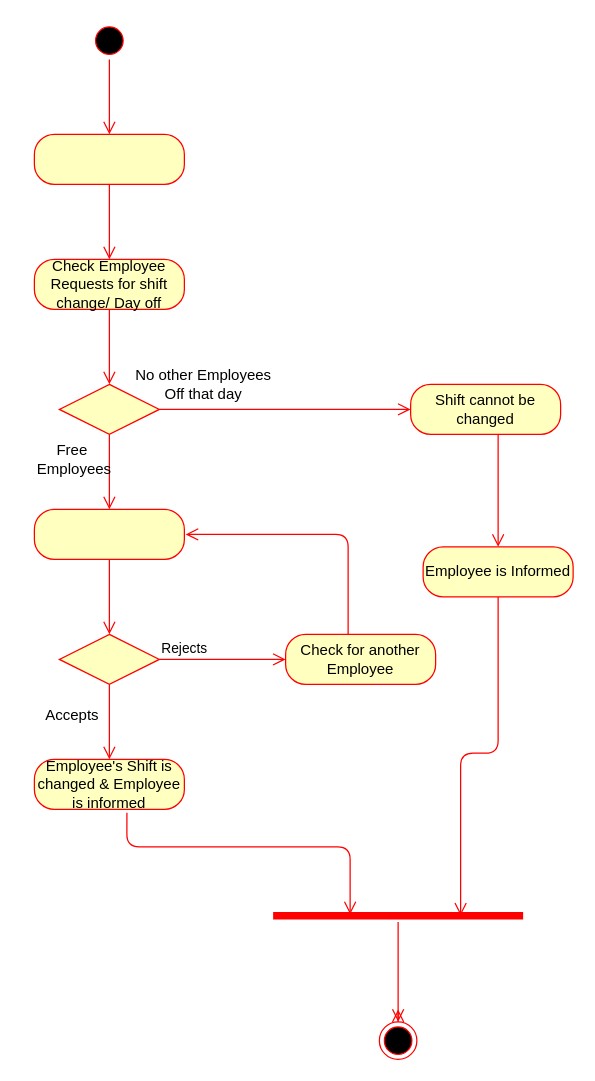
Some shapes in this 595 by 1081 pixel diagram are drawn without their labels. The shapes that lost their labels are listed below. From the top down, each one's centre as x and y in pixels, then its label:
point 108,158: Go to Dashboard/ Employees
point 108,533: Send a request to an available Employee for shift Change
